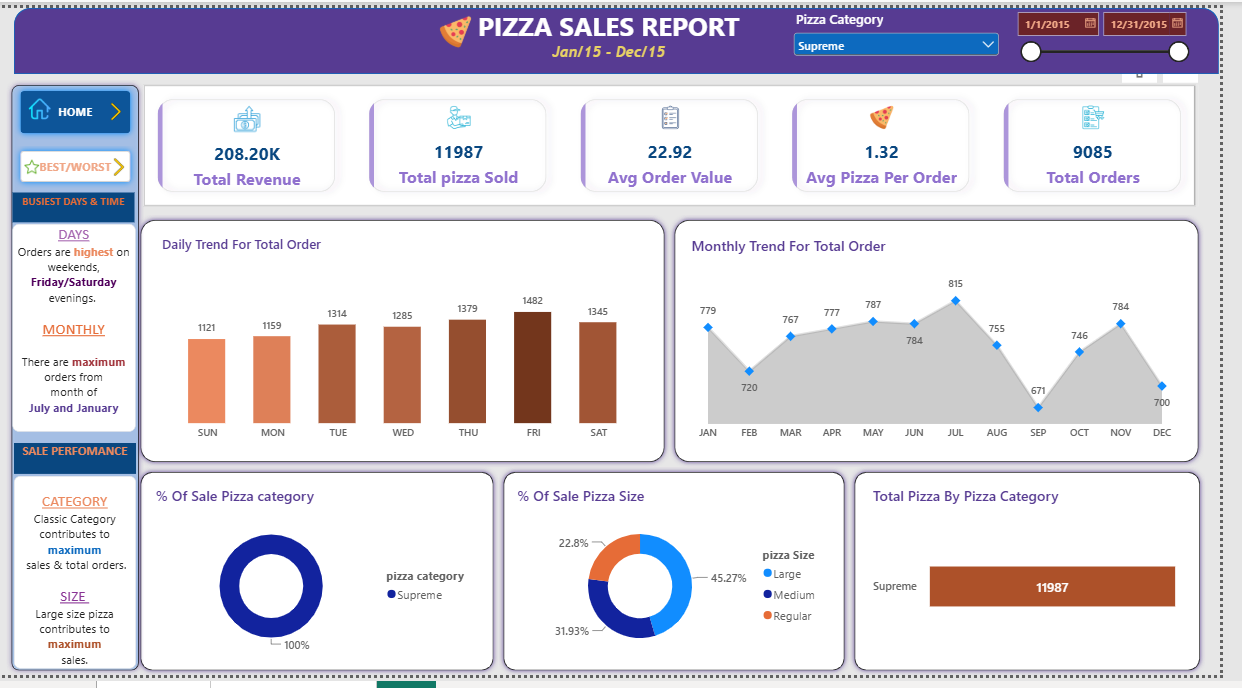

This screenshot's page, from the dashboard's own definition file:
{"tool":"powerbi","page":{"name":"HOME","canvas":[1500,820],"ordinal":0},"visuals":[{"type":"cardVisual","fields":{"Data":["public pizza_sales.Total Revenue","public pizza_sales.Total pizza Sold","public pizza_sales.avg_amount_spent_per_order","public pizza_sales.Average Pizza Per Order","public pizza_sales.Total Orders"]},"box":[177,94.1,1298.5,150],"z":0},{"type":"shape","box":[17.8,0,1481.1,81.1],"z":1000},{"type":"textbox","box":[529.6,0,440.7,59],"z":2000},{"type":"textbox","box":[621.5,42.4,256.3,51.6],"z":3000},{"type":"image","box":[529.3,7.4,63.3,43.3],"z":4000},{"type":"shape","box":[167.8,254.5,656.5,309.8],"z":5000},{"type":"columnChart","title":"Daily Trend For Total Order","fields":{"Category":["public pizza_sales.Order Day"],"Y":["public pizza_sales.Total Orders"]},"box":[184.4,265.6,625.2,285.8],"z":6000},{"type":"shape","box":[824.3,254.5,656.5,309.8],"z":7000},{"type":"areaChart","title":"Monthly Trend For Total Order","fields":{"Category":["public pizza_sales.Order Month"],"Y":["public pizza_sales.Total Orders"]},"box":[835.4,265.6,630.7,285.8],"z":8000},{"type":"shape","box":[167.8,564.3,446.3,256.3],"z":9000},{"type":"shape","box":[614.1,564.3,431.5,256.3],"z":10000},{"type":"shape","box":[1045.6,564.3,437.1,256.3],"z":11000},{"type":"donutChart","title":"% Of Sale Pizza category","fields":{"Category":["public pizza_sales.pizza_category"],"Y":["public pizza_sales.Total Revenue"]},"box":[177.2,573.9,427.2,237],"z":12000},{"type":"donutChart","title":"% Of Sale Pizza Size","fields":{"Category":["public pizza_sales.pizza_size"],"Y":["public pizza_sales.Total Revenue"]},"box":[621.7,573.9,416.3,237],"z":13000},{"type":"funnel","title":"Total Pizza By Pizza Category","fields":{"Category":["public pizza_sales.pizza_category"],"Y":["public pizza_sales.Total pizza Sold"]},"box":[1057.7,573.2,408.5,236.6],"z":14000},{"type":"shape","box":[8.9,87.8,168.9,732.2],"z":15000},{"type":"textbox","box":[17,226.9,150,36.7],"z":16000},{"type":"textbox","box":[17,264.7,151.3,255.3],"z":17000},{"type":"textbox","box":[17.8,574.4,150,236.7],"z":18000},{"type":"textbox","box":[17.8,535.6,150,37.8],"z":19000},{"type":"slicer","fields":{"Values":["public pizza_sales.pizza_category"]},"box":[971.2,2.5,262.3,81.1],"z":19001},{"type":"slicer","fields":{"Values":["public pizza_sales.order_date"]},"box":[1245,0,221.2,73.8],"z":19002},{"type":"pageNavigator","box":[18.9,94.5,151.3,68.1],"z":19003},{"type":"pageNavigator","box":[18.9,168.3,151.3,54.8],"z":19004},{"type":"image","box":[7.4,111.1,85.2,26.9],"z":19005},{"type":"image","box":[136.8,178.3,21.7,33.6],"z":19006},{"type":"image","box":[132.1,111.3,21.7,33.6],"z":19007},{"type":"image","box":[30.7,161.4,17.9,65.7],"z":19008}]}

Visuals, with their boxes in screenshot pixels (x1, y1, x2, y2):
cardVisual - public pizza_sales.Total Revenue x public pizza_sales.Total pizza Sold: [left=141, top=80, right=1202, bottom=203]
shape: [left=11, top=3, right=1221, bottom=69]
textbox: [left=429, top=3, right=789, bottom=51]
textbox: [left=504, top=38, right=714, bottom=80]
image: [left=429, top=9, right=481, bottom=45]
shape: [left=134, top=211, right=670, bottom=464]
"Daily Trend For Total Order" columnChart: [left=147, top=220, right=658, bottom=453]
shape: [left=670, top=211, right=1206, bottom=464]
"Monthly Trend For Total Order" areaChart: [left=679, top=220, right=1194, bottom=453]
shape: [left=134, top=464, right=498, bottom=673]
shape: [left=498, top=464, right=851, bottom=673]
shape: [left=851, top=464, right=1207, bottom=673]
"% Of Sale Pizza category" donutChart: [left=141, top=472, right=490, bottom=665]
"% Of Sale Pizza Size" donutChart: [left=504, top=472, right=844, bottom=665]
"Total Pizza By Pizza Category" funnel: [left=860, top=471, right=1194, bottom=664]
shape: [left=4, top=75, right=142, bottom=673]
textbox: [left=11, top=189, right=133, bottom=218]
textbox: [left=11, top=219, right=134, bottom=428]
textbox: [left=11, top=472, right=134, bottom=666]
textbox: [left=11, top=441, right=134, bottom=471]
slicer - public pizza_sales.pizza_category: [left=790, top=5, right=1004, bottom=71]
slicer - public pizza_sales.order_date: [left=1013, top=3, right=1194, bottom=63]
pageNavigator: [left=12, top=80, right=136, bottom=136]
pageNavigator: [left=12, top=141, right=136, bottom=185]
image: [left=3, top=94, right=72, bottom=116]
image: [left=108, top=149, right=126, bottom=176]
image: [left=105, top=94, right=122, bottom=122]
image: [left=22, top=135, right=36, bottom=189]
